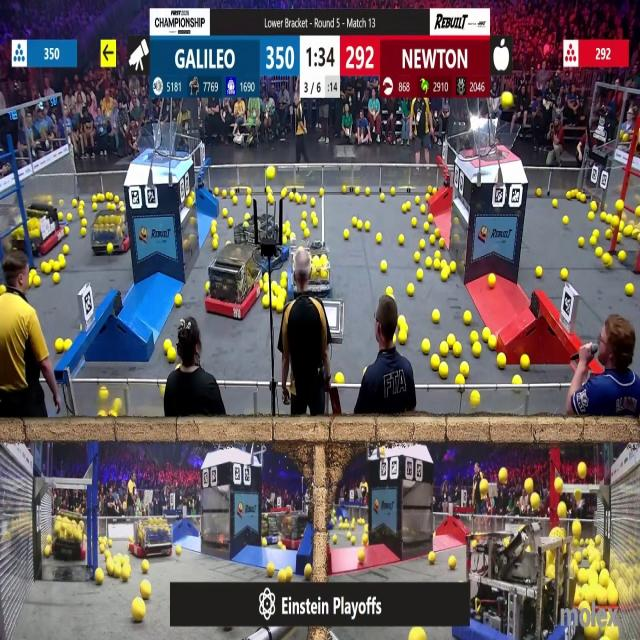ball_airborne: (576, 462, 586, 479), (501, 93, 512, 108), (530, 493, 539, 508), (481, 480, 489, 496), (572, 522, 580, 538), (602, 253, 611, 266), (558, 502, 566, 516), (498, 468, 506, 482), (556, 479, 564, 493), (525, 480, 533, 494), (626, 283, 634, 295), (617, 201, 625, 212), (620, 250, 627, 262)
ball_ground: (133, 600, 145, 622), (140, 583, 150, 600), (521, 354, 531, 370), (586, 627, 598, 640), (120, 565, 129, 581), (469, 392, 479, 406), (96, 568, 105, 583), (441, 343, 450, 357), (430, 355, 439, 369), (497, 353, 505, 368), (422, 340, 430, 355), (168, 348, 176, 362), (305, 564, 313, 578), (441, 363, 449, 377), (268, 562, 276, 576), (463, 312, 471, 325), (398, 332, 406, 345), (472, 344, 480, 357), (488, 275, 496, 288), (454, 344, 462, 357), (489, 338, 497, 351), (57, 340, 65, 353), (40, 264, 49, 275), (461, 361, 468, 375), (449, 557, 457, 569), (442, 270, 450, 282), (276, 302, 284, 314), (397, 316, 405, 328), (268, 168, 276, 180), (100, 388, 108, 400), (432, 310, 439, 323), (357, 550, 364, 563), (114, 564, 121, 577), (380, 262, 388, 273), (113, 398, 121, 409), (535, 267, 542, 279), (142, 560, 148, 574), (484, 328, 491, 340), (264, 295, 271, 307), (428, 552, 435, 564), (285, 567, 292, 579), (337, 374, 345, 384), (514, 376, 522, 386), (175, 294, 182, 305), (417, 270, 424, 281), (34, 276, 41, 287), (448, 335, 455, 346), (470, 333, 477, 344), (414, 251, 421, 262), (107, 243, 114, 254), (165, 341, 172, 352), (60, 254, 66, 266), (576, 192, 584, 201), (271, 296, 277, 308), (408, 284, 415, 294), (596, 248, 603, 258), (54, 274, 61, 284), (280, 279, 287, 289), (264, 283, 271, 293), (283, 222, 290, 232), (452, 263, 458, 274), (44, 547, 50, 558), (65, 340, 71, 351), (456, 376, 464, 384), (433, 261, 440, 270), (356, 219, 363, 228), (562, 270, 568, 280), (64, 245, 70, 255), (420, 240, 426, 250), (426, 257, 432, 267), (55, 263, 61, 273), (212, 240, 218, 250), (0, 285, 6, 295), (362, 534, 368, 544), (246, 198, 252, 208), (618, 234, 624, 244), (600, 212, 606, 222), (592, 203, 598, 213), (188, 198, 194, 208), (407, 202, 413, 212), (420, 206, 427, 214), (377, 234, 382, 245), (578, 238, 584, 247), (344, 231, 350, 240), (80, 229, 86, 238), (221, 208, 227, 217), (268, 193, 274, 202), (605, 231, 611, 240), (78, 209, 84, 218), (272, 282, 278, 291), (288, 191, 294, 200), (106, 191, 112, 200), (398, 236, 403, 246), (591, 237, 596, 247), (294, 193, 299, 203), (244, 213, 251, 220), (563, 216, 569, 224), (434, 250, 440, 258), (589, 212, 595, 220), (67, 213, 73, 221), (299, 221, 305, 229), (80, 218, 86, 226), (72, 200, 78, 208), (429, 237, 435, 245), (303, 212, 309, 220), (442, 262, 448, 270), (434, 228, 440, 236), (354, 187, 360, 195), (221, 189, 227, 197), (303, 194, 309, 202), (390, 187, 396, 195), (342, 185, 348, 193), (214, 187, 220, 195), (59, 212, 65, 220), (282, 237, 288, 245), (98, 192, 104, 200), (387, 286, 392, 295), (413, 217, 418, 226), (227, 217, 232, 226), (424, 222, 429, 231), (313, 218, 318, 227), (536, 187, 541, 196), (441, 239, 446, 248), (401, 204, 406, 213), (234, 197, 239, 206), (351, 535, 356, 544), (101, 543, 106, 552), (281, 189, 286, 198), (620, 221, 625, 230), (593, 231, 599, 238), (331, 535, 337, 542), (281, 273, 287, 280), (100, 412, 106, 419), (352, 216, 356, 226), (212, 225, 217, 233), (176, 545, 181, 553), (428, 214, 433, 222), (381, 192, 386, 200), (362, 220, 366, 230), (425, 192, 430, 200), (265, 274, 270, 282), (105, 551, 110, 559), (190, 216, 195, 224), (65, 226, 69, 235), (78, 202, 84, 208), (108, 539, 113, 546), (212, 220, 217, 227), (364, 188, 369, 195), (347, 532, 352, 539), (247, 187, 252, 194), (93, 194, 98, 201), (554, 200, 558, 208), (306, 231, 310, 239), (416, 195, 420, 203), (312, 199, 316, 207), (566, 194, 570, 202), (428, 185, 432, 193), (114, 194, 118, 202), (267, 186, 272, 192), (393, 335, 396, 345), (94, 204, 98, 211), (320, 188, 324, 195), (280, 542, 284, 549), (312, 212, 316, 219), (225, 241, 229, 246)
goal: (465, 121, 520, 160), (128, 130, 190, 160)
robot_blue: (467, 532, 577, 640), (234, 205, 295, 270), (293, 243, 335, 303), (260, 514, 284, 546)
robot_red: (207, 245, 262, 319), (26, 195, 63, 256), (91, 204, 131, 253), (130, 515, 173, 558), (52, 512, 84, 559), (278, 519, 304, 552)
